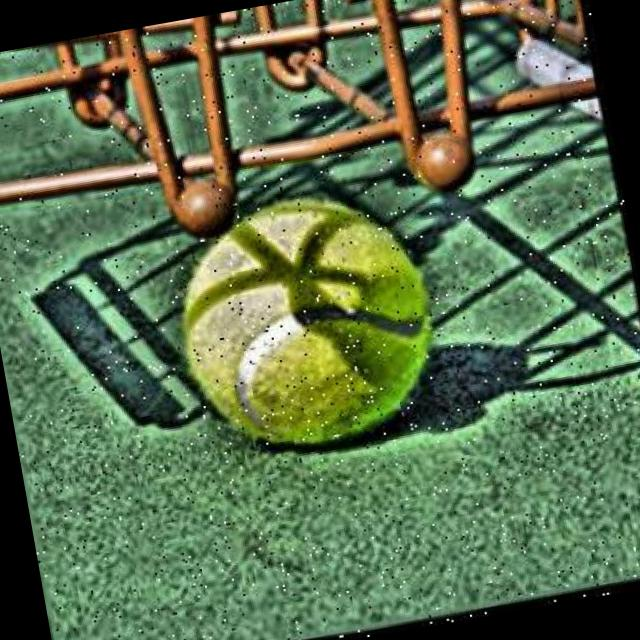Tennis Ball: (162, 164, 456, 477)
